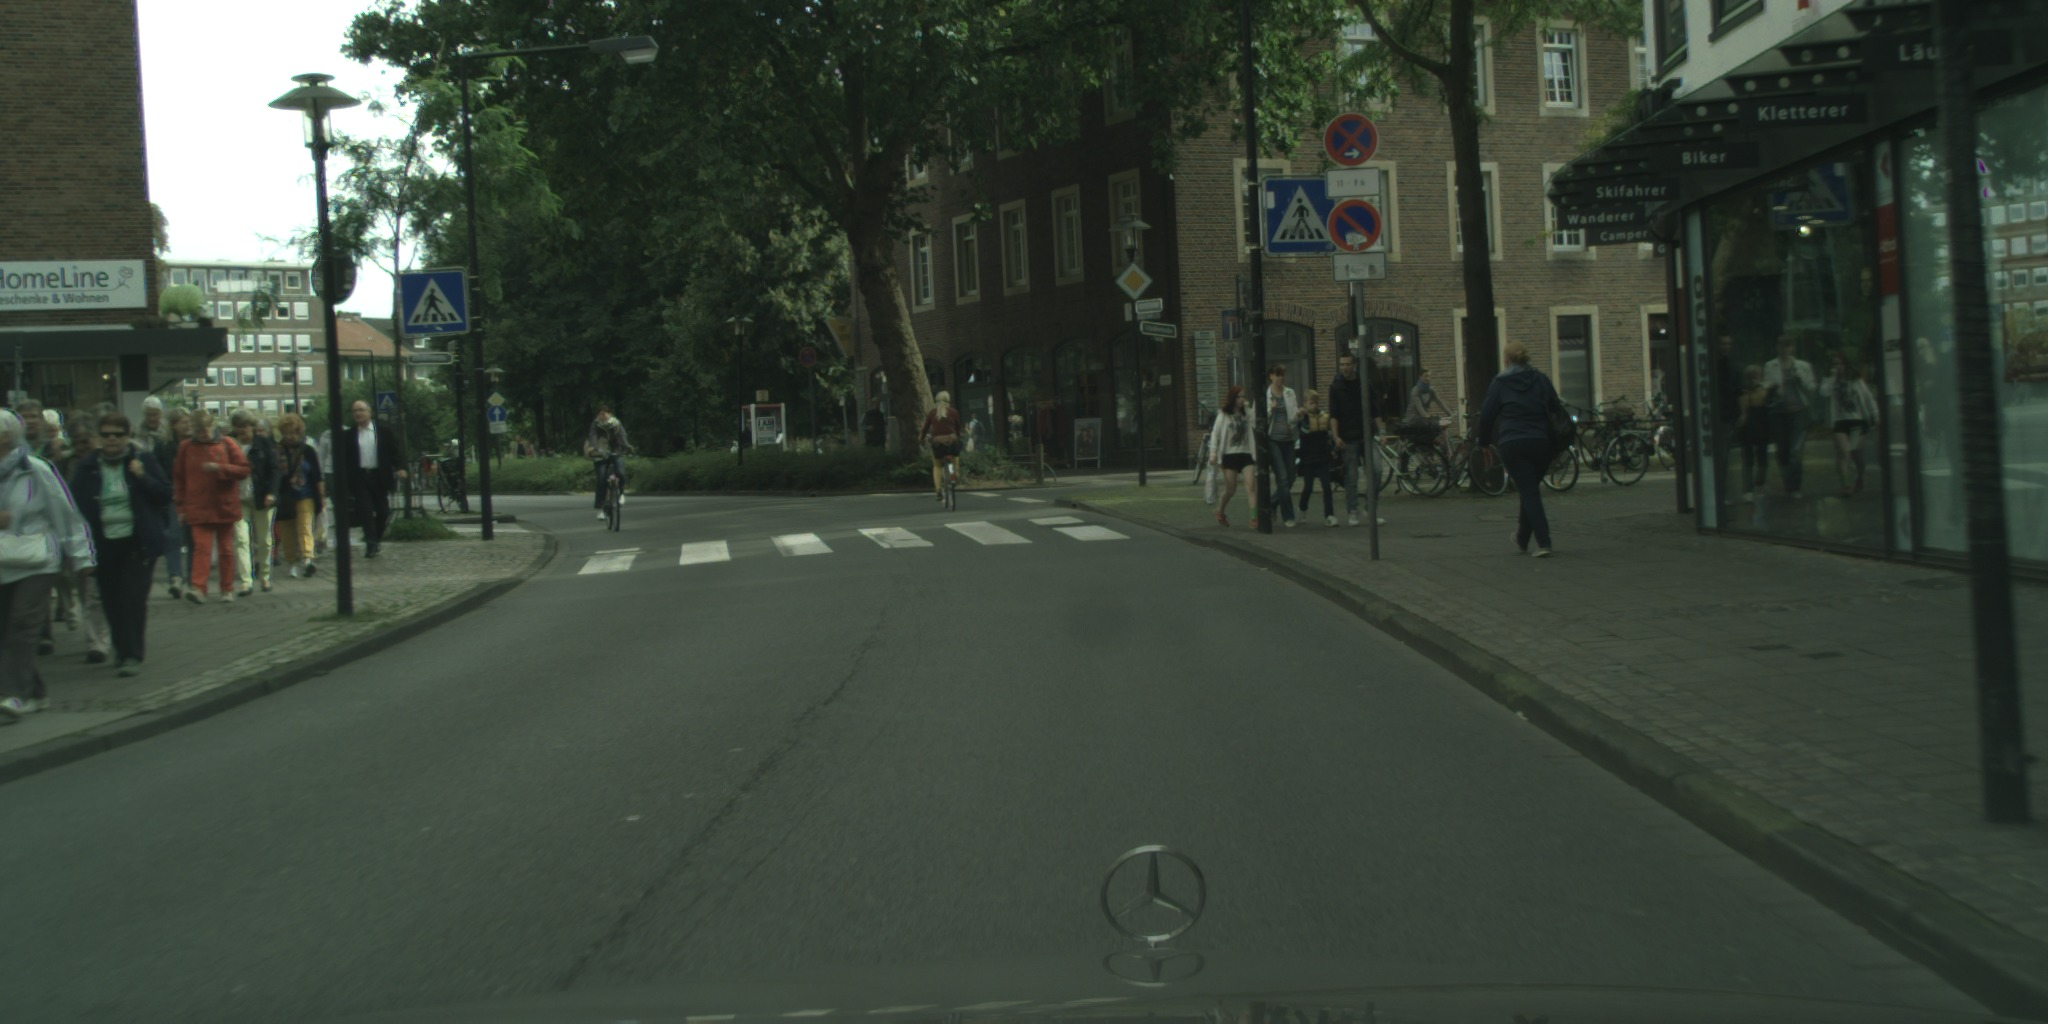bicycle: (1192, 401, 1221, 487), (932, 434, 961, 513), (600, 450, 625, 535), (435, 459, 469, 515)
person: (0, 408, 98, 719), (72, 412, 172, 679), (1476, 337, 1579, 559), (8, 399, 79, 659), (57, 410, 128, 664), (168, 415, 249, 604), (39, 409, 93, 623), (341, 399, 408, 559), (1327, 353, 1387, 529), (152, 405, 204, 602), (227, 407, 280, 597), (272, 413, 329, 579), (1203, 387, 1260, 531), (124, 396, 172, 559), (1258, 359, 1304, 532), (240, 415, 283, 581), (1296, 385, 1340, 528), (287, 416, 328, 555), (206, 422, 243, 569), (314, 412, 352, 540), (861, 396, 887, 448), (963, 413, 986, 460), (419, 447, 435, 490), (509, 433, 533, 458), (450, 439, 461, 470), (443, 442, 452, 463)
rider: (583, 401, 636, 523), (1397, 367, 1457, 463), (918, 391, 965, 500)
